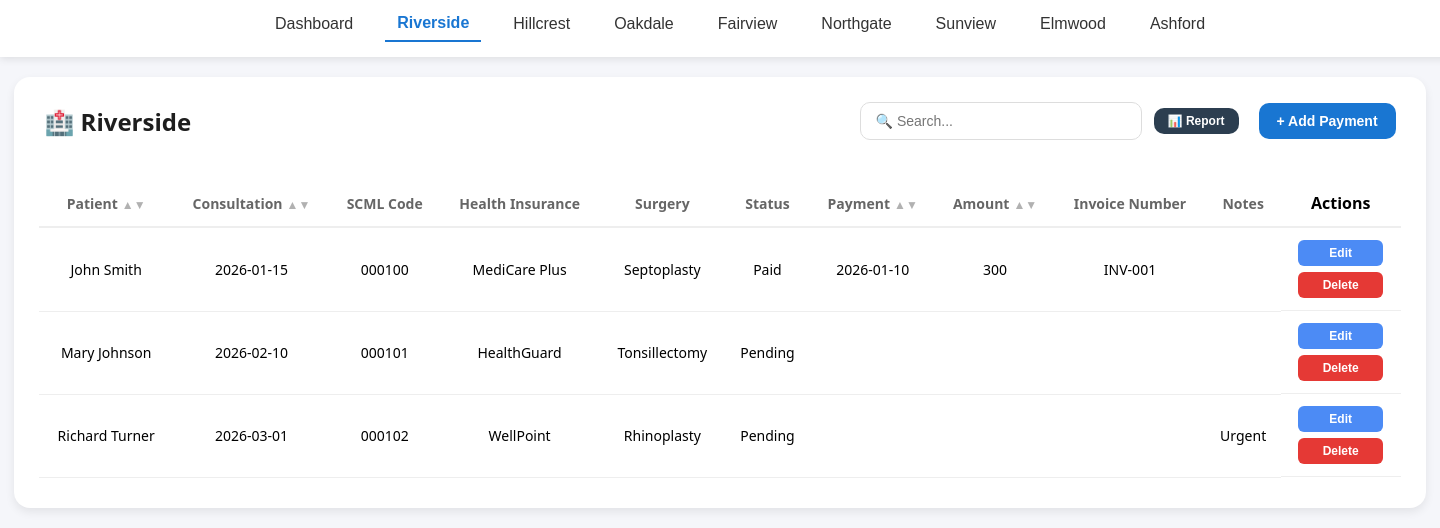
Test case: Report Generation › should open the report popover when clicking the Report button
Expected: the table with class "styled-table" is shown, [39,180,1400,478]
Click the button with class "report" at (1197, 121), box [1154,108,1239,134]
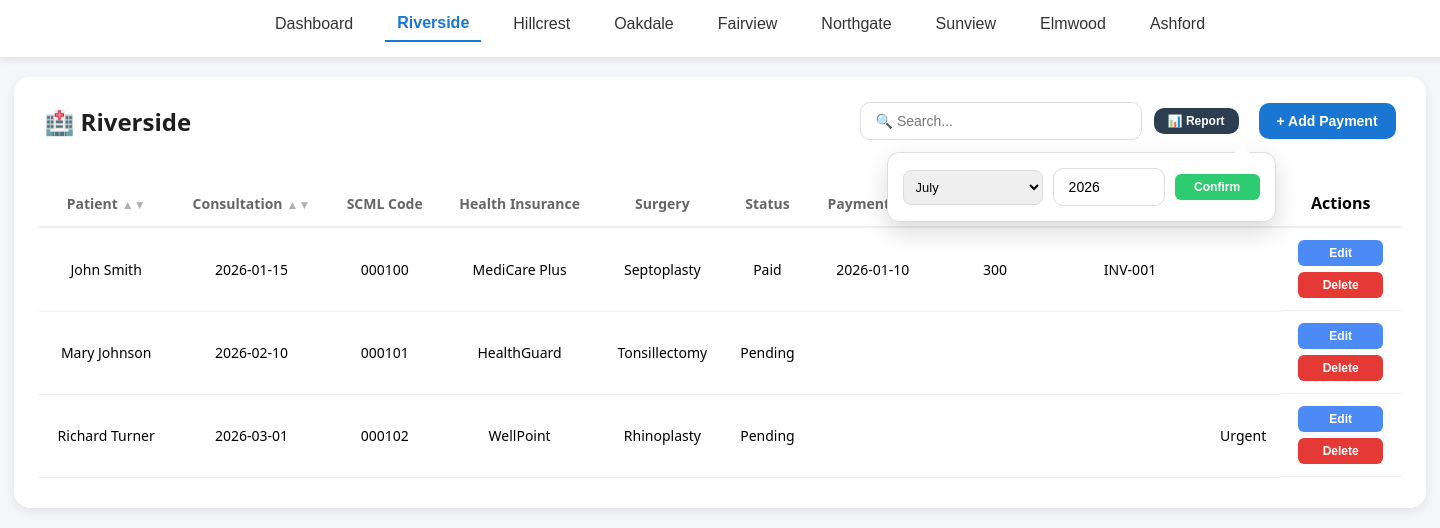
Now the element with class "report-popover" is shown, box [887,152,1276,222]
